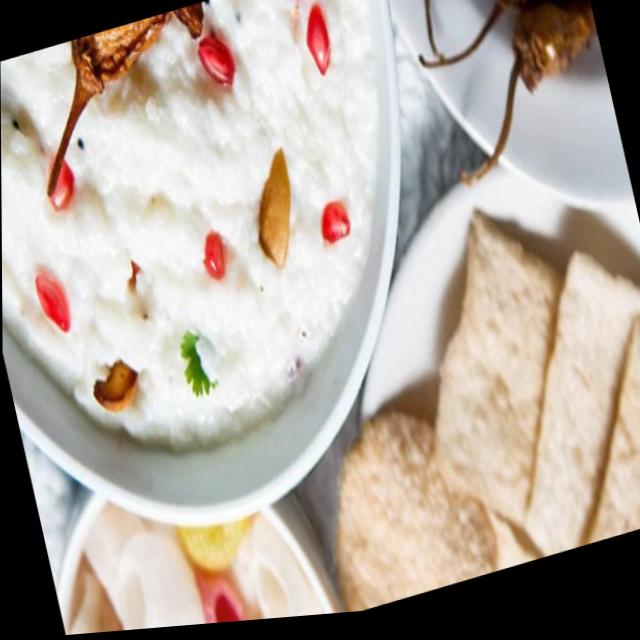CURD RICE: (0, 0, 381, 454)
PAPADAM: (333, 207, 640, 612)
